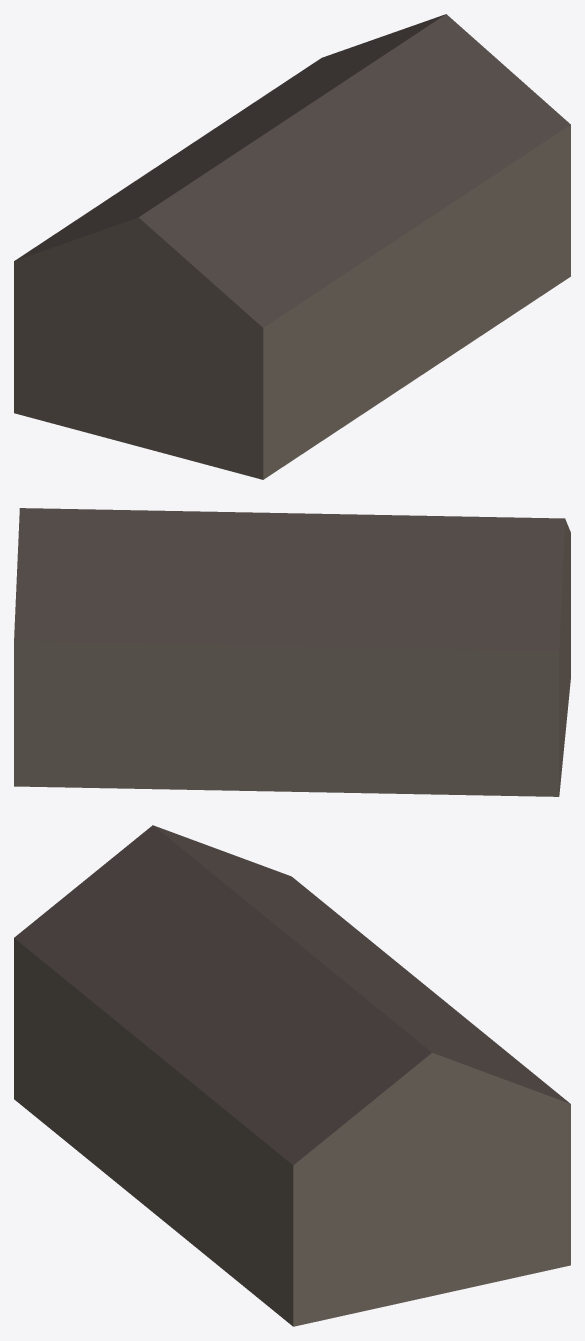
3 views of the same model, one above another, from view 1: azimuth 30°, elevation 25°; view 2: azimuth 150°, elevation 25°; view 3: azimuth 270°, elevation 25° (orthographic). The views are drawn at different scales.
Parts seen in each view (by area): view 1: HP-w859424167; view 2: HP-w859424167; view 3: HP-w859424167.
Boxes of the visible parts, bbox=[...] form: HP-w859424167: bbox=[14, 14, 570, 479]; HP-w859424167: bbox=[14, 508, 570, 796]; HP-w859424167: bbox=[14, 825, 570, 1326].
Bounding box in the file's own units: 23.05 × 9.05 × 18.77.
